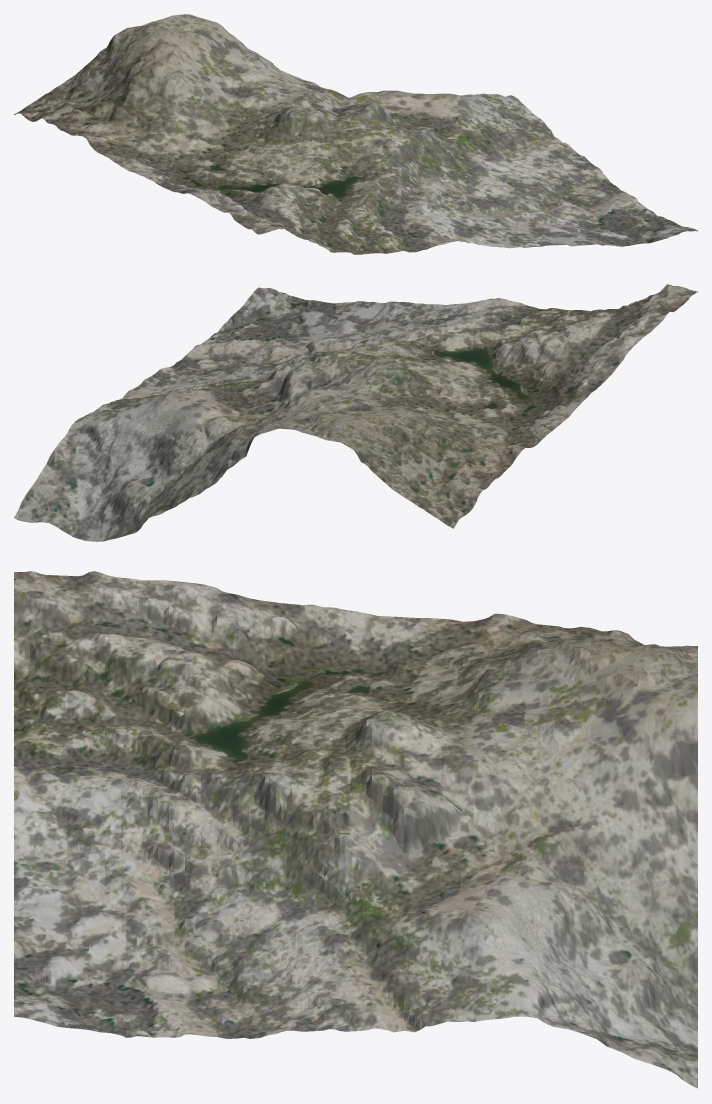
3 renders of one model, top to bottom at view 1: azimuth 30°, elevation 25°; view 2: azimuth 150°, elevation 25°; view 3: azimuth 270°, elevation 25°, orthographic. The views are drawn at different scales.
Size of the model in its own units: 500 by 182 by 481.
Materials: 1 (1 with a texture image).
